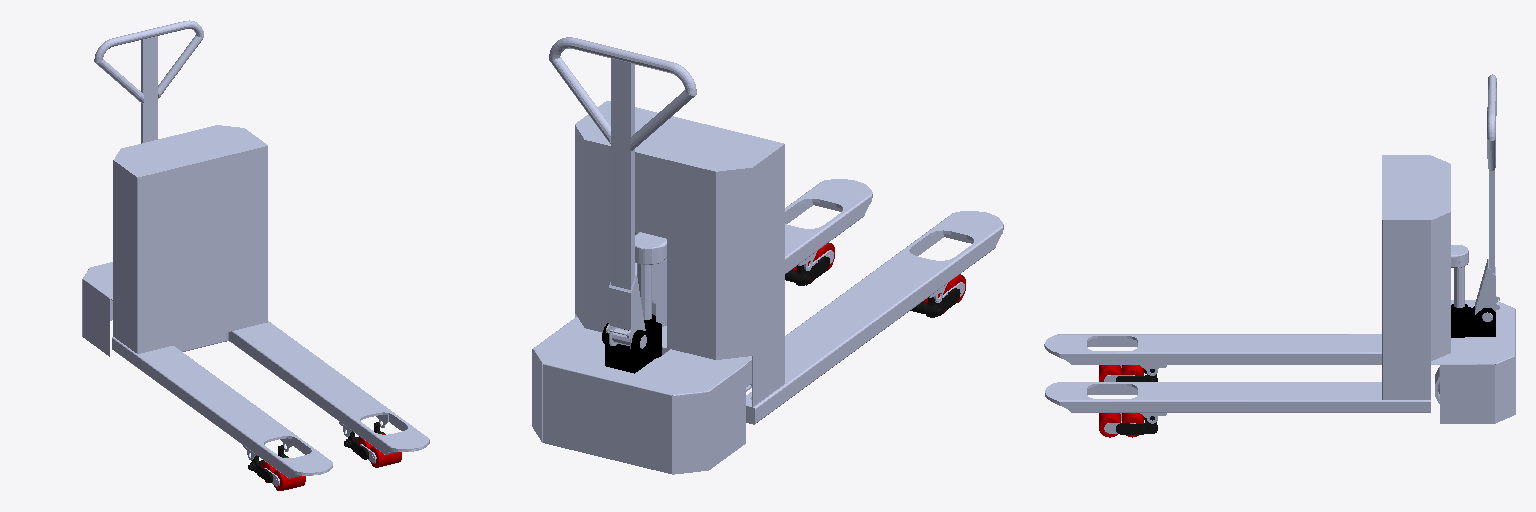
URDF robot description (model_wozek):
<?xml version="1.0" encoding="utf-8"?>
<!-- This URDF was automatically created by SolidWorks to URDF Exporter! Originally created by [author] ([email redacted]) 
     Commit Version: 1.6.0-4-g7f85cfe  Build Version: 1.6.7995.38578
     For more information, please see http://wiki.ros.org/sw_urdf_exporter -->
<robot
  name="model_wozek">
  <link name="base_link" />
    <inertial>
      <origin
        xyz="0.0 -0.443606940926552 0.02"
        rpy="0 0 0" />
    </inertial>
  <joint name="base_link_to_obudowa_stala" type="fixed">
    <parent link="base_link"/>
    <child link="base_link1"/>
  </joint>
  <link
    name="base_link1">
    <inertial>
      <origin
        xyz="-0.0737103376032669 -0.443606940926552 0.223721880926158"
        rpy="0 0 0" />
      <mass
        value="0.615009471886844" />
      <inertia
        ixx="0.0110641956588232"
        ixy="6.40144380205611E-06"
        ixz="-2.11990868364927E-06"
        iyy="0.02551181555329"
        iyz="0.00197279935789614"
        izz="0.0294983926540014" />
    </inertial>
    <visual>
      <origin
        xyz="0 0 0"
        rpy="0 0 0" />
      <geometry>
        <mesh
          filename="package://model_wozek/meshes/base_link.STL" />
      </geometry>
      <material
        name="">
        <color
          rgba="0.792156862745098 0.819607843137255 0.933333333333333 1" />
      </material>
    </visual>
    <collision>
      <origin
        xyz="0 0 0"
        rpy="0 0 0" />
      <geometry>
        <mesh
          filename="package://model_wozek/meshes/base_link.STL" />
      </geometry>
    </collision>
  </link>
  <link
    name="mocowanie_kola">
    <inertial>
      <origin
        xyz="-0.0305709417975626 -0.104339041189641 -0.000121024696440028"
        rpy="0 0 0" />
      <mass
        value="1.60598987281056" />
      <inertia
        ixx="0.00975232787640631"
        ixy="0.00142116547654286"
        ixz="6.34610784377857E-06"
        iyy="0.00450587225210306"
        iyz="1.0085499957309E-05"
        izz="0.0120912460141097" />
    </inertial>
    <visual>
      <origin
        xyz="0 0 0"
        rpy="0 0 0" />
      <geometry>
        <mesh
          filename="package://model_wozek/meshes/mocowanie_kola.STL" />
      </geometry>
      <material
        name="">
        <color
          rgba="0 0 0 1" />
      </material>
    </visual>
    <collision>
      <origin
        xyz="0 0 0"
        rpy="0 0 0" />
      <geometry>
        <mesh
          filename="package://model_wozek/meshes/mocowanie_kola.STL" />
      </geometry>
    </collision>
  </link>
  <joint
    name="joint_1"
    type="revolute">
    <calibration rising="0.0"/>
    <dynamics damping="0.0" friction="0.0"/>
    <limit effort="30" velocity="1.0" lower="-1.2217" upper="1.2217" />
    <safety_controller k_velocity="10" k_position="15" soft_lower_limit="-1.2217" soft_upper_limit="1.2217" />
    <origin
      xyz="-0.0737643255300763 -0.516403702807297 0.38"
      rpy="1.5707963267949 0 -1.57952297305487" />
    <parent
      link="base_link1" />
    <child
      link="mocowanie_kola" />
    <axis
      xyz="0 1 0" />
  </joint>
  <link
    name="kierownica">
    <inertial>
      <origin
        xyz="-0.0115895138106791 0.50728178218182 -9.81603283305155E-06"
        rpy="0 0 0" />
      <mass
        value="1.53170272477125" />
      <inertia
        ixx="0.14966688630378"
        ixy="0.0024222842098431"
        ixz="-3.07898030738919E-08"
        iyy="0.0132691843751785"
        iyz="2.656548503388E-06"
        izz="0.136873705051824" />
    </inertial>
    <visual>
      <origin
        xyz="0 0 0"
        rpy="0 0 0" />
      <geometry>
        <mesh
          filename="package://model_wozek/meshes/kierownica.STL" />
      </geometry>
      <material
        name="">
        <color
          rgba="0.792156862745098 0.819607843137255 0.933333333333333 1" />
      </material>
    </visual>
    <collision>
      <origin
        xyz="0 0 0"
        rpy="0 0 0" />
      <geometry>
        <mesh
          filename="package://model_wozek/meshes/kierownica.STL" />
      </geometry>
    </collision>
  </link>
  <joint
    name="joint_3"
    type="revolute">
    <calibration rising="0.0"/>
    <dynamics damping="0.0" friction="1.0"/>
    <limit effort="30" velocity="1.0" lower="0.0" upper="1.5707" />
    <safety_controller k_velocity="10" k_position="15" soft_lower_limit="0.0" soft_upper_limit="1.5707" />
    <origin
      xyz="-0.1 -0.0090182 0"
      rpy="0 0 0" />
    <parent
      link="mocowanie_kola" />
    <child
      link="kierownica" />
    <axis
      xyz="0 0 1" />
  </joint>
  <link
    name="duze_kolo">
    <inertial>
      <origin
        xyz="2.63122856836162E-14 1.01307850997046E-13 0.000969624160996246"
        rpy="0 0 0" />
      <mass
        value="1.24150418188688" />
      <inertia
        ixx="0.00287265555578355"
        ixy="0"
        ixz="-1.48061359180052E-18"
        iyy="0.00287265555578355"
        iyz="-2.99849663328022E-19"
        izz="0.00481686807121248" />
    </inertial>
    <visual>
      <origin
        xyz="0 0 0"
        rpy="0 0 0" />
      <geometry>
        <mesh
          filename="package://model_wozek/meshes/duze_kolo.STL" />
      </geometry>
      <material
        name="">
        <color
          rgba="0.792156862745098 0.819607843137255 0.933333333333333 1" />
      </material>
    </visual>
    <collision>
      <origin
        xyz="0 0 0"
        rpy="0 0 0" />
      <geometry>
        <mesh
          filename="package://model_wozek/meshes/duze_kolo.STL" />
      </geometry>
    </collision>
  </link>
  <joint
    name="joint_4"
    type="continuous">
    <origin
      xyz="0 -0.29902 0"
      rpy="-3.1416 0 2.8874" />
    <parent
      link="mocowanie_kola" />
    <child
      link="duze_kolo" />
    <axis
      xyz="0 0 1" />
  </joint>
  <link
    name="widly">
    <inertial>
      <origin
        xyz="-1.552191006629578 -0.370692042562407 -0.277091173145058"
        rpy="0 0 0" />
      <mass
        value="21.5594545302007" />
      <inertia
        ixx="2.94533193209688"
        ixy="-0.00483019111637182"
        ixz="-0.00875691660317464"
        iyy="3.06560711742024"
        iyz="-0.58654146127803"
        izz="1.04698641521821" />
    </inertial>
    <visual>
      <origin
        xyz="0 -0.49 0"
        rpy="0 0 0" />
      <geometry>
        <mesh
          filename="package://model_wozek/meshes/widly.STL" />
      </geometry>
      <material
        name="">
        <color
          rgba="0.792156862745098 0.819607843137255 0.933333333333333 1" />
      </material>
    </visual>
    <collision>
      <origin
        xyz="0 0 0"
        rpy="0 0 0" />
      <geometry>
        <mesh
          filename="package://model_wozek/meshes/widly.STL" />
      </geometry>
    </collision>
  </link>
  <joint
    name="joint_2"
    type="prismatic">
    <origin
      xyz="-0.62468 -0.61637 0.59057"
      rpy="1.5708 0 -3.1409" />
    <parent
      link="base_link1" />
    <child
      link="widly" />
    <axis
      xyz="0 1 0" />
    <limit
      lower="-0.02"
      upper="0.05"
      effort="100"
      velocity="100" />
    <calibration
      rising="10"
      falling="10" />
    <dynamics
      damping="10"
      friction="10" />
    <safety_controller
      soft_upper_limit="1"
      soft_lower_limit="-1"
      k_position="10"
      k_velocity="10" />
  </joint>
  <link
    name="LM1">
    <inertial>
      <origin
        xyz="0.0232153432007025 -0.0519178569819828 -4.9960036108132E-16"
        rpy="0 0 0" />
      <mass
        value="0.205906284304724" />
      <inertia
        ixx="0.000564551589227288"
        ixy="1.46160580103484E-05"
        ixz="-3.9200949496725E-18"
        iyy="0.000854042670025481"
        iyz="-6.12171555932119E-19"
        izz="0.000367886574513033" />
    </inertial>
    <visual>
      <origin
        xyz="0 0 0"
        rpy="0 0 0" />
      <geometry>
        <mesh
          filename="package://model_wozek/meshes/LM1.STL" />
      </geometry>
      <material
        name="">
        <color
          rgba="0.125490196078431 0.125490196078431 0.125490196078431 1" />
      </material>
    </visual>
    <collision>
      <origin
        xyz="0 0 0"
        rpy="0 0 0" />
      <geometry>
        <mesh
          filename="package://model_wozek/meshes/LM1.STL" />
      </geometry>
    </collision>
  </link>
  <joint
    name="joint_5"
    type="revolute">
    <calibration rising="0.0"/>
    <dynamics damping="0.0" friction="1.0"/>
    <limit effort="30" velocity="1.0" lower="0.87" upper="0.0" />
    <safety_controller k_velocity="10" k_position="15" soft_lower_limit="-0.87" soft_upper_limit="0.0" />
    <mimic joint="joint_2" multiplier = "-12"/>
    <origin
      xyz="-0.74988 -0.5045 -0.98578"
      rpy="0 1.5708 0" />
    <parent
      link="widly" />
    <child
      link="LM1" />
    <axis
      xyz="0 0 1" />
    <limit
      lower="0"
      upper="0"
      effort="0"
      velocity="0" />
  </joint>
  <link
    name="LM2">
    <inertial>
      <origin
        xyz="0 0 -0.00100000000000013"
        rpy="0 0 0" />
      <mass
        value="0.0799092879672439" />
      <inertia
        ixx="0.000171621704838005"
        ixy="-7.3476946692554E-20"
        ixz="-1.33230341669221E-18"
        iyy="0.000267347952208344"
        iyz="-1.51749785732926E-19"
        izz="0.000108157119089532" />
    </inertial>
    <visual>
      <origin
        xyz="0 0 0"
        rpy="0 0 0" />
      <geometry>
        <mesh
          filename="package://model_wozek/meshes/LM2.STL" />
      </geometry>
      <material
        name="">
        <color
          rgba="0.792156862745098 0.819607843137255 0.933333333333333 1" />
      </material>
    </visual>
    <collision>
      <origin
        xyz="0 0 0"
        rpy="0 0 0" />
      <geometry>
        <mesh
          filename="package://model_wozek/meshes/LM2.STL" />
      </geometry>
    </collision>
  </link>
  <joint
    name="joint_7"
    type="revolute">
    <calibration rising="0.0"/>
    <dynamics damping="0.0" friction="1.0"/>
    <limit effort="30" velocity="1.0" lower="0.87" upper="0.0" />
    <safety_controller k_velocity="10" k_position="15" soft_lower_limit="0.77" soft_upper_limit="0.0" />
    <mimic joint="joint_2" multiplier = "12"/>
    <origin
      xyz="0.11 -0.055 0"
      rpy="0 0 0" />
    <parent
      link="LM1" />
    <child
      link="LM2" />
    <axis
      xyz="0 0 1" />
  </joint>
  <link
    name="LK1">
    <inertial>
      <origin
        xyz="0 5.55111512312578E-17 7.2626514638463E-05"
        rpy="0 0 0" />
      <mass
        value="0.426330913884975" />
      <inertia
        ixx="0.000470662693708433"
        ixy="-3.65363686588813E-21"
        ixz="-2.84407193908392E-18"
        iyy="0.000470662693708433"
        iyz="-1.82807544270046E-19"
        izz="0.000342285750762482" />
    </inertial>
    <visual>
      <origin
        xyz="0 0 0"
        rpy="0 0 0" />
      <geometry>
        <mesh
          filename="package://model_wozek/meshes/LK1.STL" />
      </geometry>
      <material
        name="">
        <color
          rgba="0.815686274509804 0 0 1" />
      </material>
    </visual>
    <collision>
      <origin
        xyz="0 0 0"
        rpy="0 0 0" />
      <geometry>
        <mesh
          filename="package://model_wozek/meshes/LK1.STL" />
      </geometry>
    </collision>
  </link>
  <joint
    name="joint_9"
    type="continuous">
    <mimic joint="joint_4" multiplier="20" />
    <origin
      xyz="-0.04 0 -0.001"
      rpy="0 0 0" />
    <parent
      link="LM2" />
    <child
      link="LK1" />
    <axis
      xyz="0 0 1" />
  </joint>
  <link
    name="LK2">
    <inertial>
      <origin
        xyz="2.22044604925031E-16 0 7.26265146384075E-05"
        rpy="0 0 0" />
      <mass
        value="0.426330913884975" />
      <inertia
        ixx="0.000470662693708433"
        ixy="-3.65363686588813E-21"
        ixz="-2.84400576463492E-18"
        iyy="0.000470662693708433"
        iyz="-1.82807544270046E-19"
        izz="0.000342285750762482" />
    </inertial>
    <visual>
      <origin
        xyz="0 0 0"
        rpy="0 0 0" />
      <geometry>
        <mesh
          filename="package://model_wozek/meshes/LK2.STL" />
      </geometry>
      <material
        name="">
        <color
          rgba="0.815686274509804 0 0 1" />
      </material>
    </visual>
    <collision>
      <origin
        xyz="0 0 0"
        rpy="0 0 0" />
      <geometry>
        <mesh
          filename="package://model_wozek/meshes/LK2.STL" />
      </geometry>
    </collision>
  </link>
  <joint
    name="joint_10"
    type="continuous">
    <mimic joint="joint_9" multiplier="1" />
    <origin
      xyz="0.04 0 -0.001"
      rpy="0 0 0" />
    <parent
      link="LM2" />
    <child
      link="LK2" />
    <axis
      xyz="0 0 1" />
  </joint>
  <link
    name="PM1">
    <inertial>
      <origin
        xyz="0.0232153432007027 -0.051917856981983 -6.10622663543836E-16"
        rpy="0 0 0" />
      <mass
        value="0.205906284304724" />
      <inertia
        ixx="0.000564551589227288"
        ixy="1.46160580103484E-05"
        ixz="-4.46193133811924E-18"
        iyy="0.00085404267002548"
        iyz="-4.77984662602542E-19"
        izz="0.000367886574513033" />
    </inertial>
    <visual>
      <origin
        xyz="0 0 0"
        rpy="0 0 0" />
      <geometry>
        <mesh
          filename="package://model_wozek/meshes/PM1.STL" />
      </geometry>
      <material
        name="">
        <color
          rgba="0.125490196078431 0.125490196078431 0.125490196078431 1" />
      </material>
    </visual>
    <collision>
      <origin
        xyz="0 0 0"
        rpy="0 0 0" />
      <geometry>
        <mesh
          filename="package://model_wozek/meshes/PM1.STL" />
      </geometry>
    </collision>
  </link>
  <joint
    name="joint_6"
    type="revolute">
    <calibration rising="0.0"/>
    <dynamics damping="0.0" friction="1.0"/>
    <limit effort="30" velocity="1.0" lower="0.87" upper="0.0" />
    <safety_controller k_velocity="10" k_position="15" soft_lower_limit="-0.87" soft_upper_limit="0.0" />
    <mimic joint="joint_2" multiplier = "-12"/>
    <axis
      xyz="0 0 1" />
    <limit
      lower="-0.87"
      upper="0.0"
      effort="100"
      velocity="100" />
    <calibration
      rising="10"
      falling="10" />
    <dynamics
      damping="10"
      friction="10" />
    <safety_controller
      soft_upper_limit="1"
      soft_lower_limit="-1"
      k_position="10"
      k_velocity="10" />
    <origin
      xyz="-0.35188 -0.5045 -0.98578"
      rpy="0 1.5708 0" />
    <parent
      link="widly" />
    <child
      link="PM1" />
    <axis
      xyz="0 0 1" />
    <limit
      lower="0"
      upper="0"
      effort="0"
      velocity="0" />
  </joint>
  <link
    name="PM2">
    <inertial>
      <origin
        xyz="0 0 0.000999999999999834"
        rpy="0 0 0" />
      <mass
        value="0.079909287967244" />
      <inertia
        ixx="0.000171621704838005"
        ixy="-9.6426931701336E-20"
        ixz="-1.48200325522961E-18"
        iyy="0.000267347952208345"
        iyz="-5.85646159915377E-20"
        izz="0.000108157119089532" />
    </inertial>
    <visual>
      <origin
        xyz="0 0 0"
        rpy="0 0 0" />
      <geometry>
        <mesh
          filename="package://model_wozek/meshes/PM2.STL" />
      </geometry>
      <material
        name="">
        <color
          rgba="0.792156862745098 0.819607843137255 0.933333333333333 1" />
      </material>
    </visual>
    <collision>
      <origin
        xyz="0 0 0"
        rpy="0 0 0" />
      <geometry>
        <mesh
          filename="package://model_wozek/meshes/PM2.STL" />
      </geometry>
    </collision>
  </link>
  <joint
    name="joint_8"
    type="revolute">
    <calibration rising="0.0"/>
    <dynamics damping="0.0" friction="1.0"/>
    <limit effort="30" velocity="1.0" lower="0.87" upper="0.0" />
    <safety_controller k_velocity="10" k_position="15" soft_lower_limit="0.7" soft_upper_limit="0.0" />
    <mimic joint="joint_2" multiplier = "12"/>
    <origin
      xyz="0.11 -0.055 0"
      rpy="0 0 0" />
    <parent
      link="PM1" />
    <child
      link="PM2" />
    <axis
      xyz="0 0 1" />
  </joint>
  <link
    name="PK1">
    <inertial>
      <origin
        xyz="2.22044604925031E-16 5.55111512312578E-17 7.2626514638463E-05"
        rpy="0 0 0" />
      <mass
        value="0.426330913884975" />
      <inertia
        ixx="0.000470662693708434"
        ixy="-3.6532427296203E-21"
        ixz="-3.20200953374787E-18"
        iyy="0.000470662693708434"
        iyz="-1.83385250169734E-19"
        izz="0.000342285750762482" />
    </inertial>
    <visual>
      <origin
        xyz="0 0 0"
        rpy="0 0 0" />
      <geometry>
        <mesh
          filename="package://model_wozek/meshes/PK1.STL" />
      </geometry>
      <material
        name="">
        <color
          rgba="0.815686274509804 0 0 1" />
      </material>
    </visual>
    <collision>
      <origin
        xyz="0 0 0"
        rpy="0 0 0" />
      <geometry>
        <mesh
          filename="package://model_wozek/meshes/PK1.STL" />
      </geometry>
    </collision>
  </link>
  <joint
    name="joint_11"
    type="continuous">
    <mimic joint="joint_4" multiplier="20" />
    <origin
      xyz="-0.04 0 0.001"
      rpy="0 0 0" />
    <parent
      link="PM2" />
    <child
      link="PK1" />
    <axis
      xyz="0 0 1" />
  </joint>
  <link
    name="PK2">
    <inertial>
      <origin
        xyz="-2.22044604925031E-16 5.55111512312578E-17 7.26265146384075E-05"
        rpy="0 0 0" />
      <mass
        value="0.426330913884975" />
      <inertia
        ixx="0.000470662693708434"
        ixy="-3.6532427296203E-21"
        ixz="-3.20200953374787E-18"
        iyy="0.000470662693708434"
        iyz="-1.83385250169734E-19"
        izz="0.000342285750762482" />
    </inertial>
    <visual>
      <origin
        xyz="0 0 0"
        rpy="0 0 0" />
      <geometry>
        <mesh
          filename="package://model_wozek/meshes/PK2.STL" />
      </geometry>
      <material
        name="">
        <color
          rgba="0.815686274509804 0 0 1" />
      </material>
    </visual>
    <collision>
      <origin
        xyz="0 0 0"
        rpy="0 0 0" />
      <geometry>
        <mesh
          filename="package://model_wozek/meshes/PK2.STL" />
      </geometry>
    </collision>
  </link>
  <joint
    name="joint_12"
    type="continuous">
    <mimic joint="joint_11" multiplier="1" />
    <origin
      xyz="0.04 0 0.001"
      rpy="0 0 0" />
    <parent
      link="PM2" />
    <child
      link="PK2" />
    <axis
      xyz="0 0 1" />
  </joint>
</robot>

--- Facts derived from the render (not from the file) ---
3 views of the same robot in one strip: view 1: azimuth 30°, elevation 25°; view 2: azimuth 150°, elevation 25°; view 3: azimuth 270°, elevation 25° (orthographic).
Model model_wozek with 14 links and 13 joints (6 revolute, 5 continuous, 1 prismatic, 1 fixed), rooted at base_link, posed every joint at zero.
Links seen in each view (by area): view 1: widly, kierownica, base_link1; view 2: widly, base_link1, kierownica, mocowanie_kola, PM1, LM1; view 3: widly, base_link1, kierownica, mocowanie_kola.
Boxes of the visible links, x1,y1,x2,y2 form: widly: (112,125,429,478); kierownica: (94,20,203,143); base_link1: (82,262,112,356); widly: (575,101,1003,424); base_link1: (532,317,751,474); kierownica: (549,37,696,348); mocowanie_kola: (602,314,661,373); PM1: (910,288,960,317); LM1: (785,256,829,285); widly: (1044,155,1468,423); base_link1: (1431,300,1515,423); kierownica: (1475,74,1499,321); mocowanie_kola: (1451,304,1495,337).
Size in the robot's own frame: 0.5609 by 1.67 by 1.22 metres.
13 mesh visuals loaded from 13 distinct referenced files (13 binary STL).
